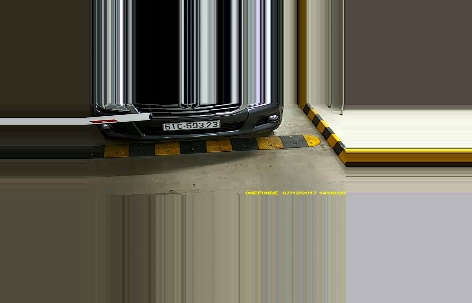plate: (163, 118, 221, 130)
